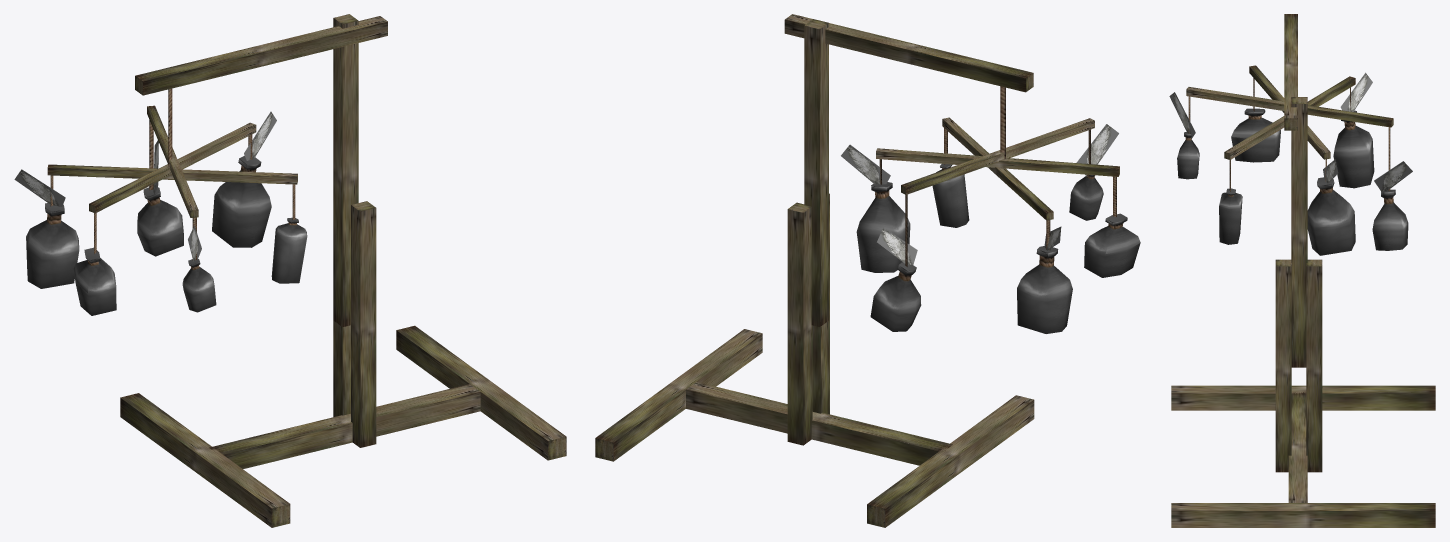
File: shop_tatoo_bottles.fbx
3 renders of one model, left to right at view 1: azimuth 30°, elevation 25°; view 2: azimuth 150°, elevation 25°; view 3: azimuth 270°, elevation 25°, orthographic. The views are drawn at different scales.
Visible parts, largest first — view 1: pCube14, pCube11, pCube13, pCube15, pCube16, pCube9, shop_bsmith_bottleB_pCube6, shop_bsmith_bottleB_pCube5, pCube7, shop_bsmith_bottleB_pCube4, shop_bsmith_bottleB_pCube1, pCube6 (+5 smaller); view 2: pCube14, pCube11, pCube12, pCube15, pCube16, pCube9, shop_bsmith_bottleB_pCube5, shop_bsmith_bottleB_pCube6, shop_bsmith_bottleB_pCube1, pCube6, pCube8, shop_bsmith_bottleB_pCube4 (+7 smaller); view 3: pCube16, pCube15, pCube11, pCube12, pCube13, shop_bsmith_bottleB_pCube6, shop_bsmith_bottleB_pCube5, pCube14, pCube8, shop_bsmith_bottleB_pCube1, shop_bsmith_bottleB_pCube4, pCube9 (+7 smaller).
Boxes of the visible parts, x1,y1,x2,y2 form: pCube14: (209,384,480,468); pCube11: (333,14,358,326); pCube13: (351,201,376,447); pCube15: (120,393,290,527); pCube16: (396,325,566,460); pCube9: (135,16,387,95); shop_bsmith_bottleB_pCube6: (212,156,271,247); shop_bsmith_bottleB_pCube5: (26,203,79,288); pCube7: (47,164,297,184); shop_bsmith_bottleB_pCube4: (137,187,183,256); shop_bsmith_bottleB_pCube1: (73,247,116,315); pCube6: (89,122,256,213); pCube14: (686,382,952,465); pCube11: (804,19,828,326); pCube12: (787,202,812,445); pCube15: (867,395,1034,527); pCube16: (595,329,762,461); pCube9: (784,14,1033,92); shop_bsmith_bottleB_pCube5: (1017,246,1072,333); shop_bsmith_bottleB_pCube6: (856,182,910,272); shop_bsmith_bottleB_pCube1: (1084,213,1140,277); pCube6: (876,148,1119,176); pCube8: (901,118,1094,194); shop_bsmith_bottleB_pCube4: (870,262,921,331); pCube16: (1171,503,1435,527); pCube15: (1171,385,1435,410); pCube11: (1291,97,1307,367); pCube12: (1306,259,1322,472); pCube13: (1275,259,1291,472); shop_bsmith_bottleB_pCube6: (1307,177,1355,255); shop_bsmith_bottleB_pCube5: (1333,110,1374,188); pCube14: (1288,392,1307,502); pCube8: (1186,87,1393,127); shop_bsmith_bottleB_pCube1: (1231,108,1280,162); shop_bsmith_bottleB_pCube4: (1372,189,1408,250); pCube9: (1284,14,1297,130).
Size of the model in its own units: 780 by 708 by 468.
Materials: 3 (3 with a texture image).
